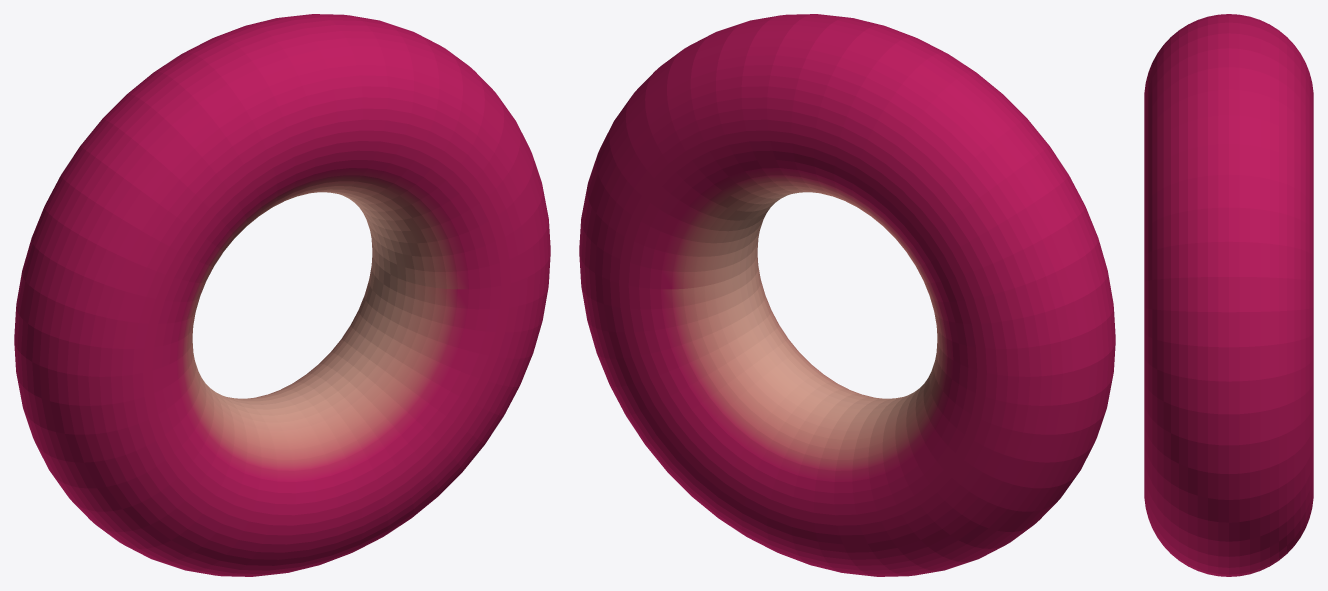
The picture shows the model from 3 angles, left to right: view 1: azimuth 30°, elevation 25°; view 2: azimuth 150°, elevation 25°; view 3: azimuth 270°, elevation 25°; orthographic projection. The views are drawn at different scales.
Parts seen in each view (by area): view 1: world; view 2: world; view 3: world.
Part boxes in pixels (left/top/right/bottom): world: left=14, top=14, right=550, bottom=576; world: left=579, top=14, right=1115, bottom=576; world: left=1144, top=14, right=1313, bottom=576.
Size of the model in its own units: 30.53 by 30.47 by 9.18.
